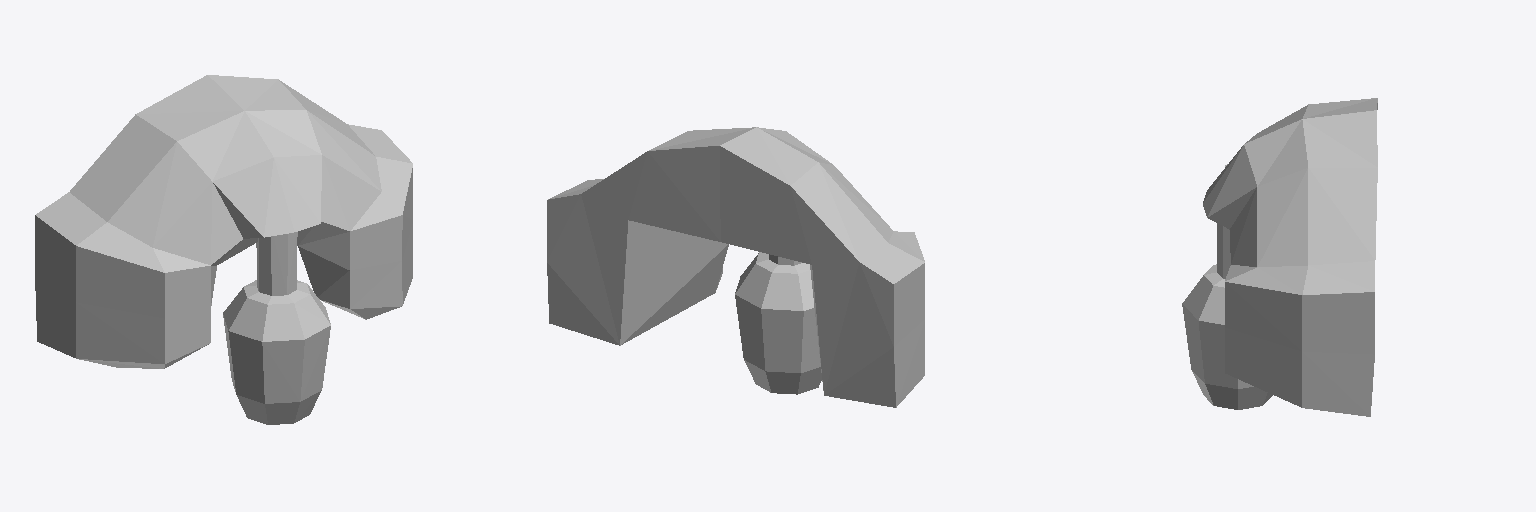
The model's file is flame-thrower-04.obj.
3 renders of one model, left to right at view 1: azimuth 30°, elevation 25°; view 2: azimuth 150°, elevation 25°; view 3: azimuth 270°, elevation 25°, orthographic.
Parts seen in each view (by area): view 1: flame_thrower_04; view 2: flame_thrower_04; view 3: flame_thrower_04.
Boxes of the visible parts, <box> form: flame_thrower_04: <box>35,75,412,424</box>; flame_thrower_04: <box>547,127,924,407</box>; flame_thrower_04: <box>1182,98,1377,416</box>.
Size of the model in its own units: 4.15 by 3.33 by 2.03.